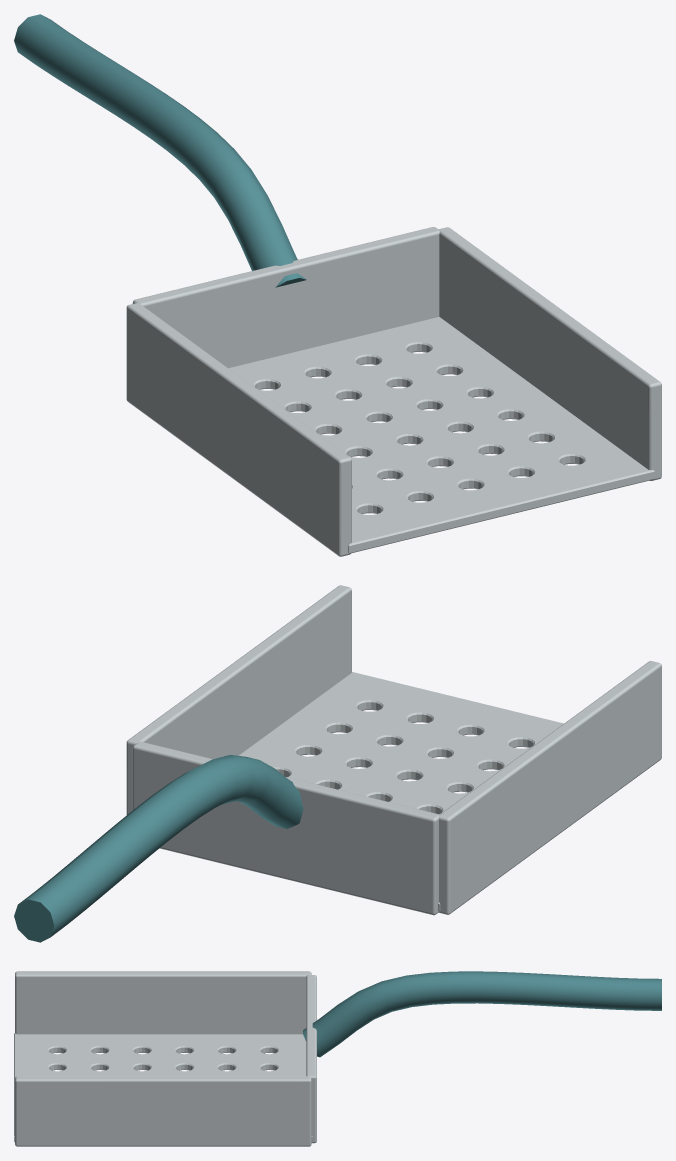
The model's file is cheesemaking-and-dairy-cellar-perforated-curd-scoop-bc0ef3f4__30862.glb.
3 renders of one model, top to bottom at view 1: azimuth 30°, elevation 25°; view 2: azimuth 150°, elevation 25°; view 3: azimuth 270°, elevation 25°, orthographic. The views are drawn at different scales.
Visible parts, largest first — view 1: perforated-curd-scoop; view 2: perforated-curd-scoop; view 3: perforated-curd-scoop.
Part boxes in pixels (x1,y1,x2,y2): perforated-curd-scoop: [14, 14, 661, 556]; perforated-curd-scoop: [14, 585, 661, 942]; perforated-curd-scoop: [14, 971, 661, 1146].
Bounding box in the file's own units: 0.192 × 0.0975 × 0.4808.
